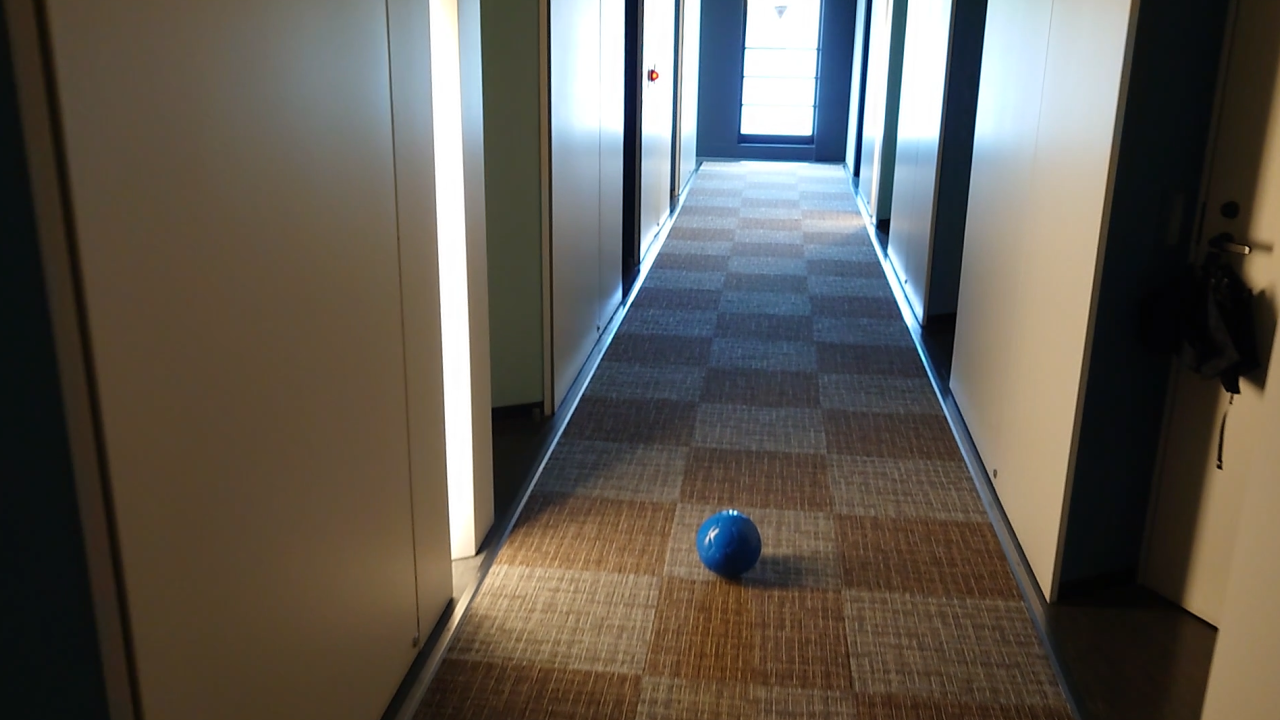BlueBall: (696, 506, 763, 578)
